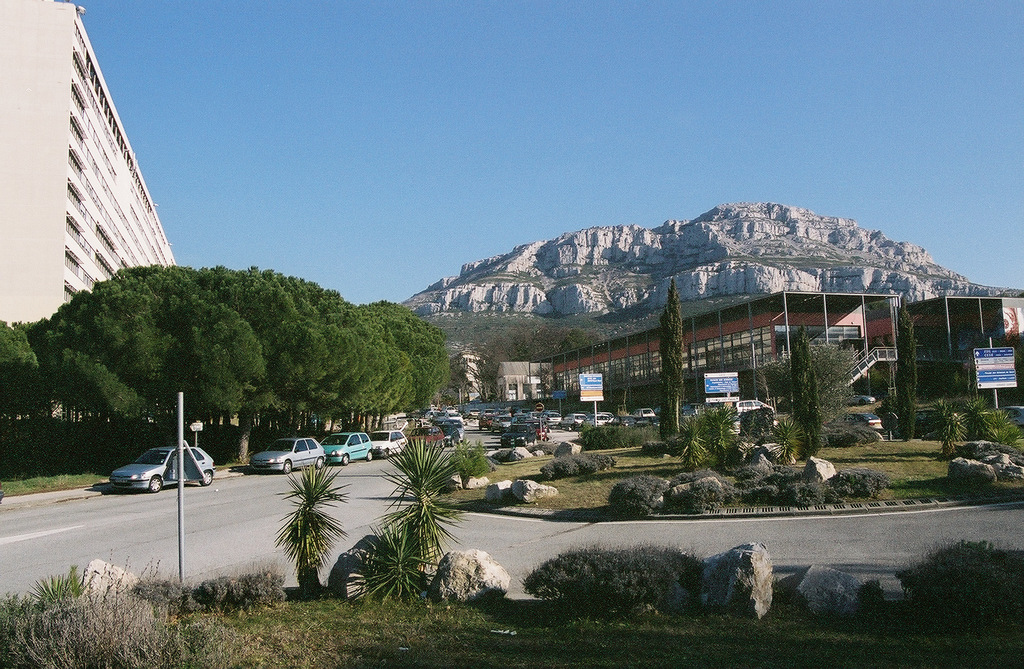mobil: (109, 444, 222, 496), (254, 437, 321, 473)
